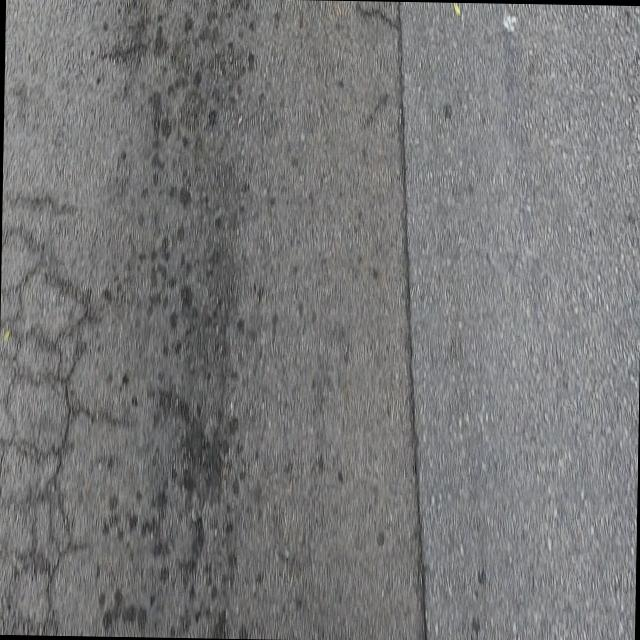Retak-Buaya: (0, 191, 101, 632)
Retak-Memanjang: (395, 2, 429, 640)
